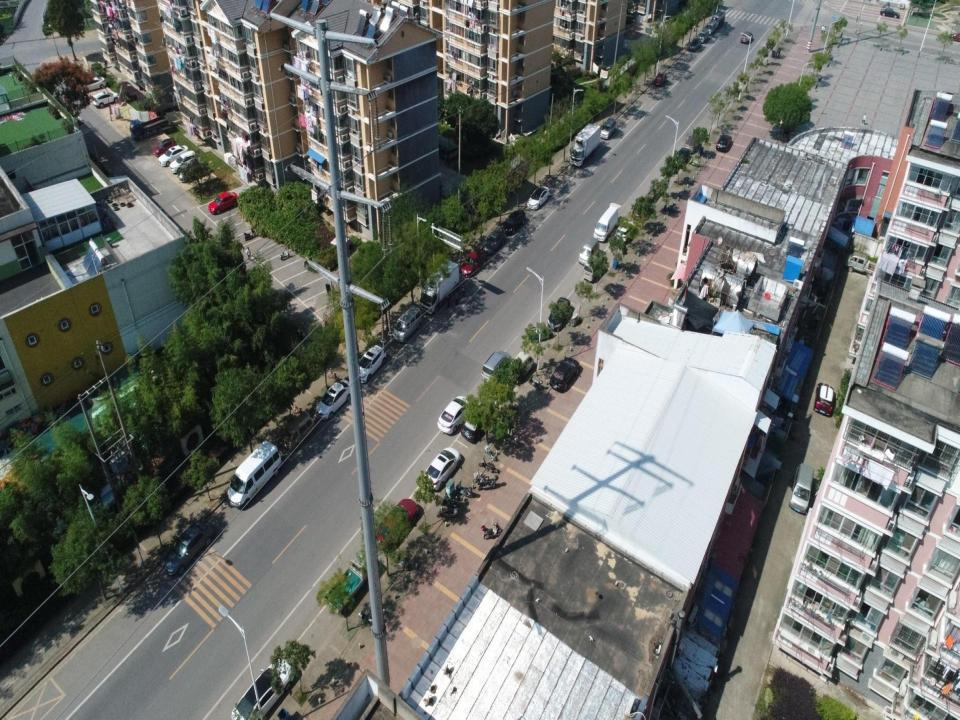car: (231, 658, 296, 720), (159, 518, 214, 576), (374, 498, 419, 552), (424, 446, 461, 491), (460, 401, 495, 444), (315, 379, 352, 419), (437, 395, 471, 435), (354, 346, 386, 384), (550, 357, 580, 392), (812, 381, 835, 417), (548, 297, 571, 331), (208, 191, 238, 215), (460, 249, 484, 278), (158, 146, 190, 167), (480, 230, 505, 256), (526, 184, 550, 210), (169, 150, 196, 173), (502, 210, 526, 235), (615, 218, 638, 244), (153, 137, 178, 158), (631, 196, 654, 218), (178, 165, 206, 183), (90, 91, 119, 108), (80, 74, 107, 91), (716, 132, 733, 154), (685, 130, 701, 153), (676, 147, 691, 166), (880, 6, 901, 19), (687, 37, 702, 52), (653, 73, 667, 87), (740, 30, 753, 44)
truck: (324, 549, 379, 618), (418, 257, 460, 313), (568, 123, 602, 168), (845, 251, 882, 279), (128, 115, 171, 137)
van: (226, 438, 282, 507), (280, 410, 314, 453), (789, 462, 814, 516), (593, 202, 622, 242), (392, 306, 422, 344), (481, 350, 512, 385), (508, 350, 534, 384), (582, 249, 608, 281), (578, 237, 599, 266), (600, 118, 618, 138), (712, 9, 725, 26), (697, 26, 709, 43), (706, 21, 717, 33)
